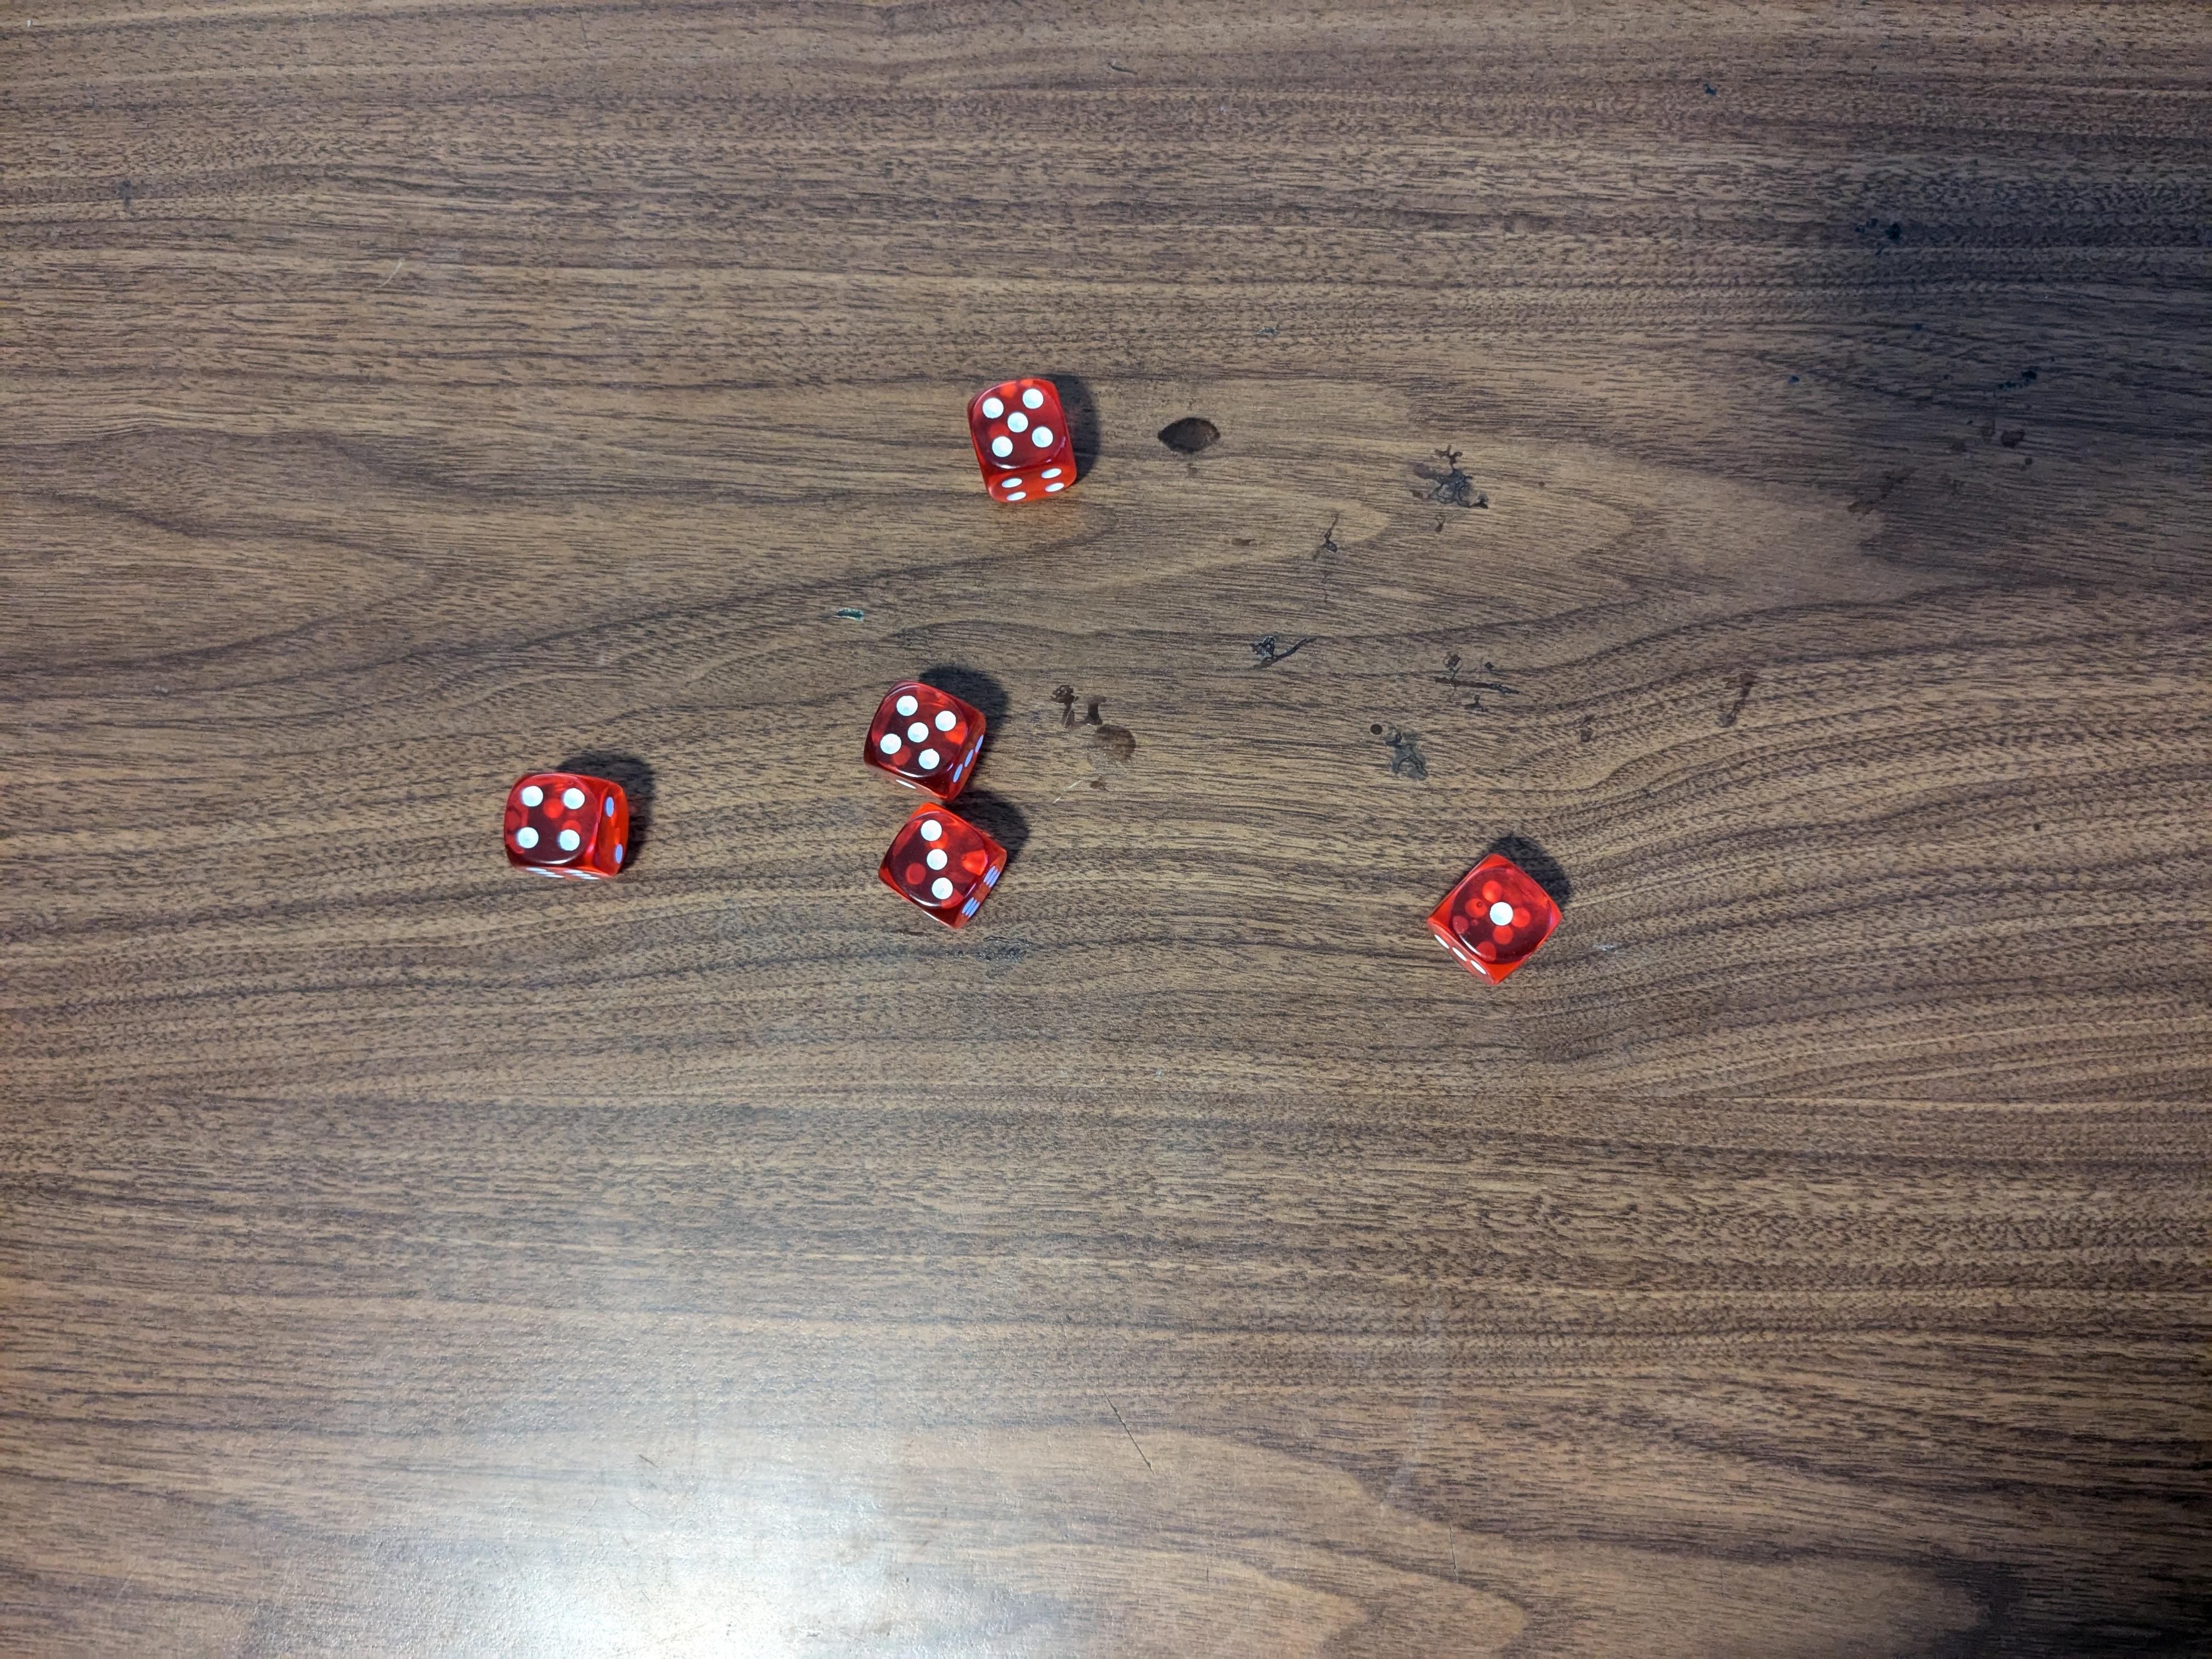five: (862, 673, 995, 798), (970, 376, 1082, 509)
four: (493, 765, 644, 892)
one: (1423, 852, 1568, 992)
three: (873, 803, 1017, 929)
